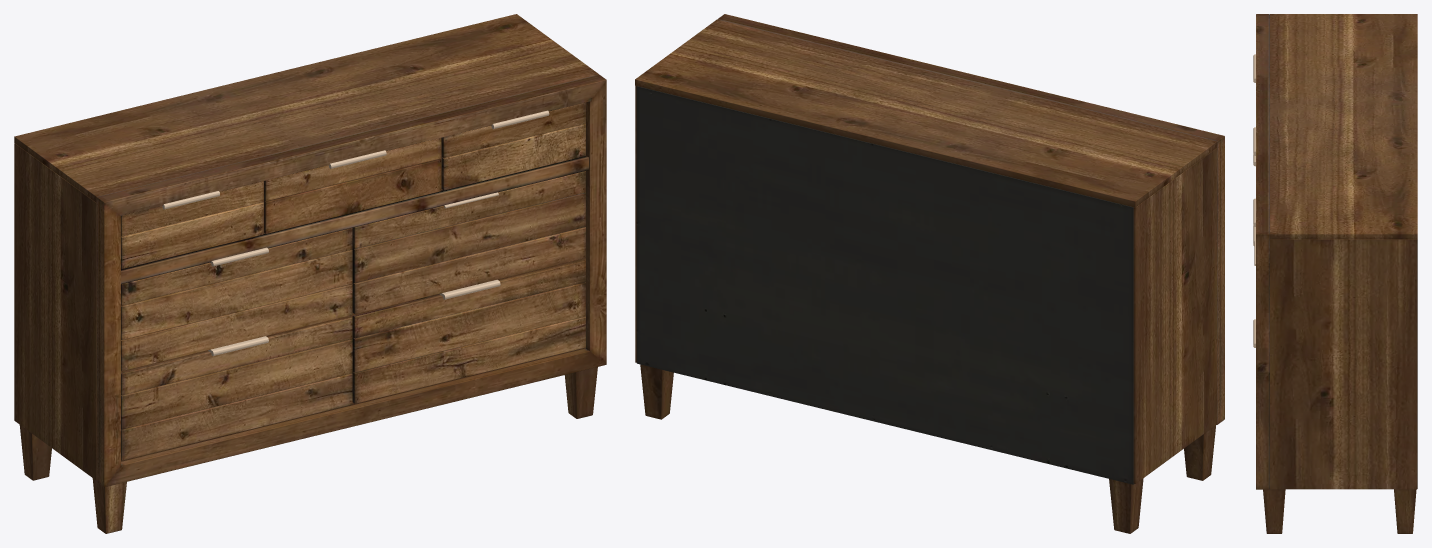
File: abo-B075Z8THYY.glb
3 views of the same model, side by side, from view 1: azimuth 30°, elevation 25°; view 2: azimuth 150°, elevation 25°; view 3: azimuth 270°, elevation 25° (orthographic). The views are drawn at different scales.
Bounding box in the file's own units: 1.39 × 0.892 × 0.438.
1 material, 1 textured.
